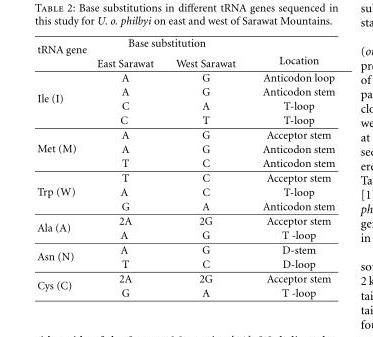table: (36, 36, 334, 298)
table column: (248, 36, 334, 298), (164, 36, 248, 298), (91, 36, 164, 298), (36, 36, 91, 298)
table column header: (36, 36, 334, 70)
table row: (36, 52, 334, 70), (36, 36, 334, 52), (36, 112, 334, 127), (36, 155, 334, 170), (36, 198, 334, 213), (36, 227, 334, 242), (36, 256, 334, 271), (36, 70, 334, 84), (36, 84, 334, 98), (36, 98, 334, 112), (36, 127, 334, 141), (36, 141, 334, 155), (36, 170, 334, 184), (36, 184, 334, 198), (36, 213, 334, 227), (36, 242, 334, 256), (36, 271, 334, 285), (36, 285, 334, 298)
table spanning cell: (36, 70, 91, 127), (248, 36, 334, 70), (91, 36, 248, 52), (36, 127, 91, 170), (36, 170, 91, 213), (36, 36, 91, 70), (36, 213, 91, 242), (36, 242, 91, 271), (36, 271, 91, 298)
